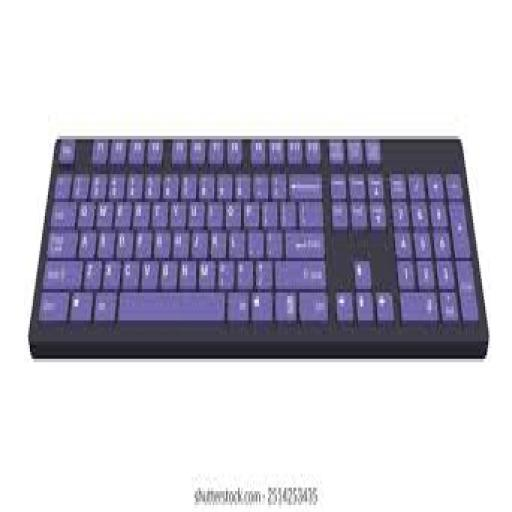KEYBOARD-2: (30, 139, 487, 355)
